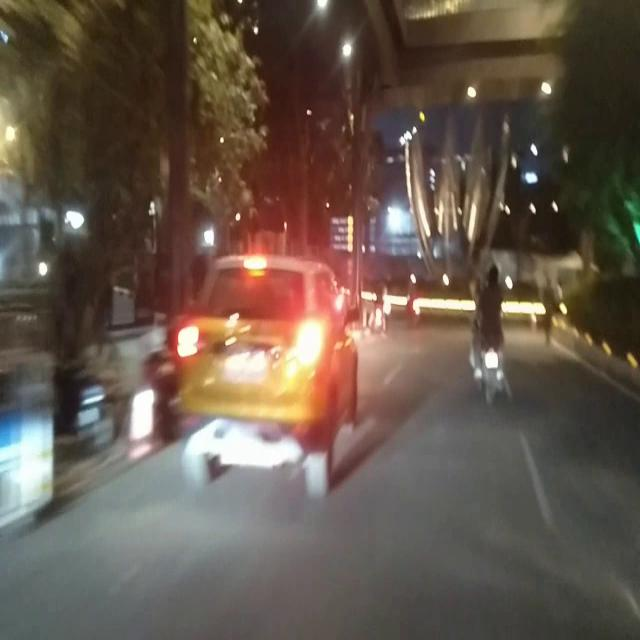car: (172, 237, 364, 505)
road: (0, 496, 640, 640), (55, 393, 640, 498), (357, 323, 640, 395)
